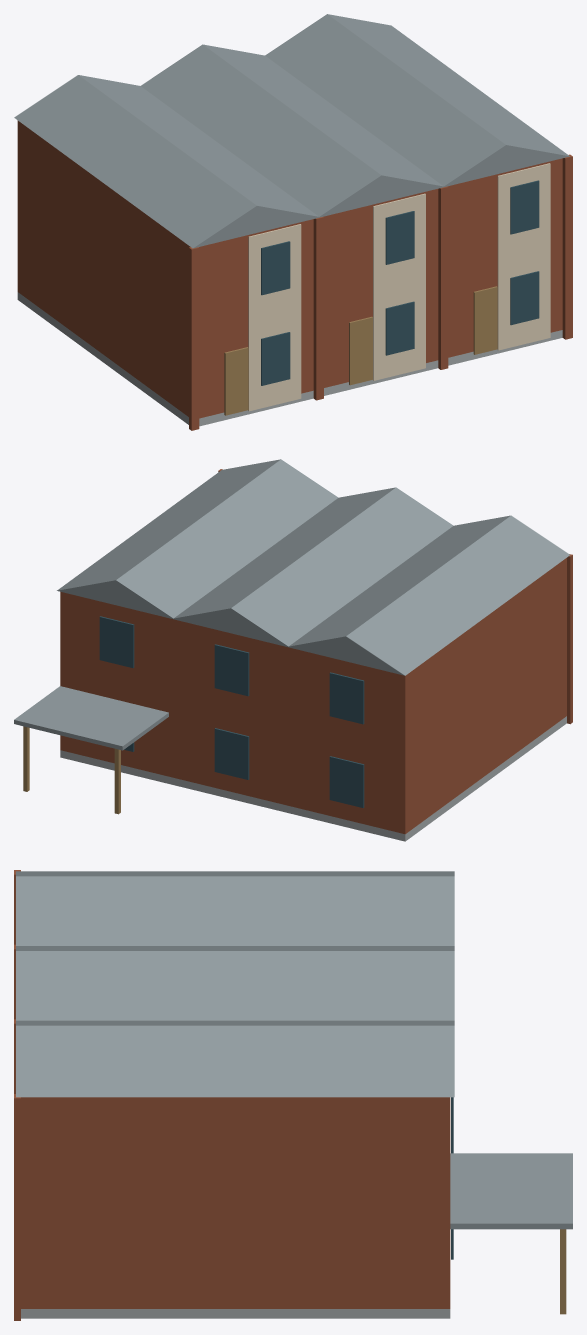
The model's file is townhouse-row.glb.
3 views of the same model, one above another, from view 1: azimuth 30°, elevation 25°; view 2: azimuth 150°, elevation 25°; view 3: azimuth 270°, elevation 25° (orthographic). The views are drawn at different scales.
Visible parts, largest first — view 1: wall-envelope, roof-gable-01, roof-gable-03, roof-gable-02, rendered-bay-03, rendered-bay-01, rendered-bay-02, ground-contact-plinth, party-pier-01, party-pier-04, party-pier-03, party-pier-02 (+9 smaller); view 2: wall-envelope, roof-gable-01, roof-gable-03, roof-gable-02, rear-carport-roof, ground-contact-plinth, opening-rear-window-01-01, opening-rear-window-01-02, opening-rear-window-02-02, opening-rear-window-03-02, opening-rear-window-02-01, party-pier-01; view 3: wall-envelope, roof-gable-03, roof-gable-01, roof-gable-02, rear-carport-roof, ground-contact-plinth, party-pier-04, rear-carport-post-02.
Part boxes in pixels (box(x1,y1,x2,y2)): wall-envelope: box(17, 120, 562, 418); roof-gable-01: box(14, 75, 320, 248); roof-gable-03: box(265, 14, 569, 186); roof-gable-02: box(141, 44, 445, 216); rendered-bay-03: box(497, 163, 550, 350); rendered-bay-01: box(248, 224, 301, 411); rendered-bay-02: box(373, 193, 425, 380); ground-contact-plinth: box(17, 292, 562, 426); party-pier-01: box(189, 247, 199, 430); party-pier-04: box(562, 154, 572, 339); party-pier-03: box(438, 186, 448, 369); party-pier-02: box(313, 217, 323, 400); wall-envelope: box(60, 558, 566, 834); roof-gable-01: box(288, 515, 569, 675); roof-gable-03: box(57, 459, 338, 618); roof-gable-02: box(172, 487, 453, 646); rear-carport-roof: box(14, 686, 168, 750); ground-contact-plinth: box(60, 716, 566, 841); opening-rear-window-01-01: box(329, 756, 364, 807); opening-rear-window-01-02: box(329, 672, 364, 724); opening-rear-window-02-02: box(214, 644, 249, 696); opening-rear-window-03-02: box(99, 616, 134, 668); opening-rear-window-02-01: box(214, 728, 249, 779); party-pier-01: box(567, 554, 572, 724); wall-envelope: box(21, 1097, 450, 1308); roof-gable-03: box(16, 1020, 454, 1097); roof-gable-01: box(16, 871, 454, 945); roof-gable-02: box(16, 946, 454, 1020); rear-carport-roof: box(450, 1153, 572, 1229); ground-contact-plinth: box(21, 1309, 450, 1318); party-pier-04: box(14, 1094, 20, 1320); rear-carport-post-02: box(560, 1229, 566, 1314).
Bounding box in the file's own units: 14.08 × 7.36 × 14.57.
